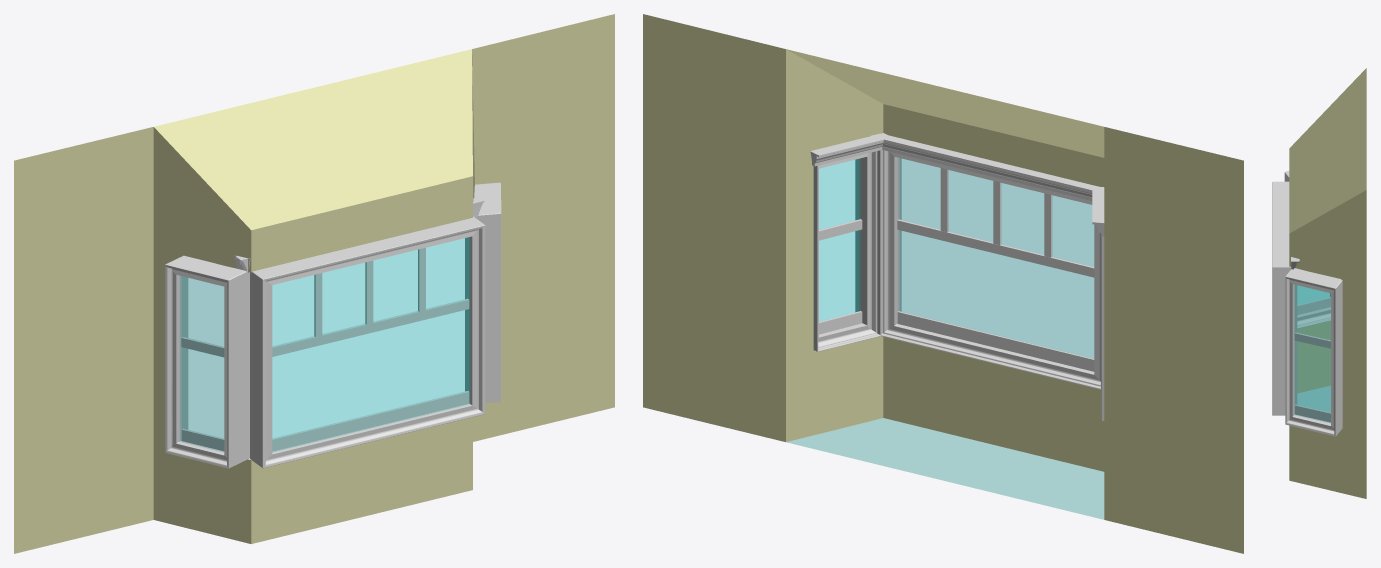
Rendered from KitchenWindow.fbx.
3 views of the same model, side by side, from view 1: azimuth 30°, elevation 25°; view 2: azimuth 150°, elevation 25°; view 3: azimuth 270°, elevation 25° (orthographic). The views are drawn at different scales.
Visible parts, largest first — view 1: polySurface453, polySurface475; view 2: polySurface453, polySurface475, polySurface465; view 3: polySurface453, polySurface475.
Part boxes in pixels (x1=…): polySurface453: x1=14, y1=14, x2=614, y2=553; polySurface475: x1=165, y1=182, x2=501, y2=468; polySurface453: x1=643, y1=14, x2=1243, y2=553; polySurface475: x1=813, y1=150, x2=1104, y2=420; polySurface465: x1=810, y1=133, x2=1104, y2=236; polySurface453: x1=1289, y1=68, x2=1366, y2=498; polySurface475: x1=1272, y1=171, x2=1342, y2=436.
Size of the model in its own units: 6.91 by 4.32 by 1.19.
